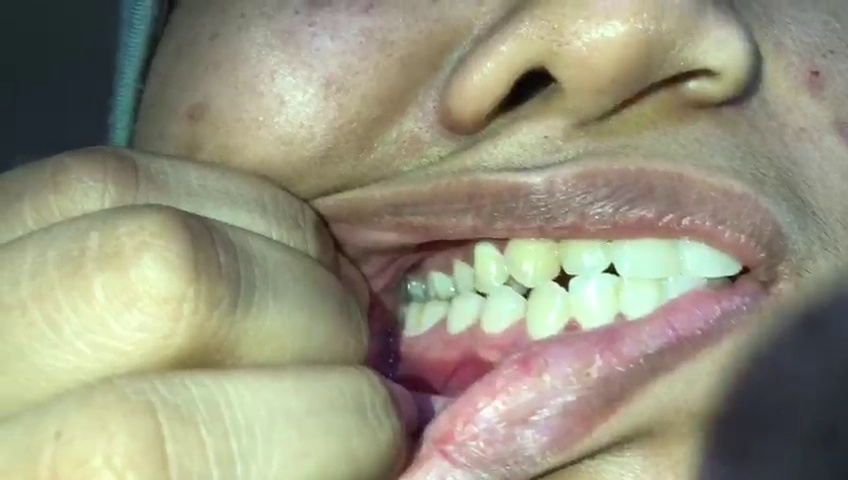1st Molar: (421, 299, 448, 339), (426, 269, 452, 301)
1st Premolar: (479, 288, 527, 336), (473, 240, 510, 297)
2nd Molar: (401, 298, 421, 339), (405, 274, 427, 299)
2nd Premolar: (448, 292, 484, 336), (453, 258, 475, 296)
Canine: (501, 232, 564, 289), (526, 282, 570, 341)
Lateral Incisor: (570, 272, 620, 337)
